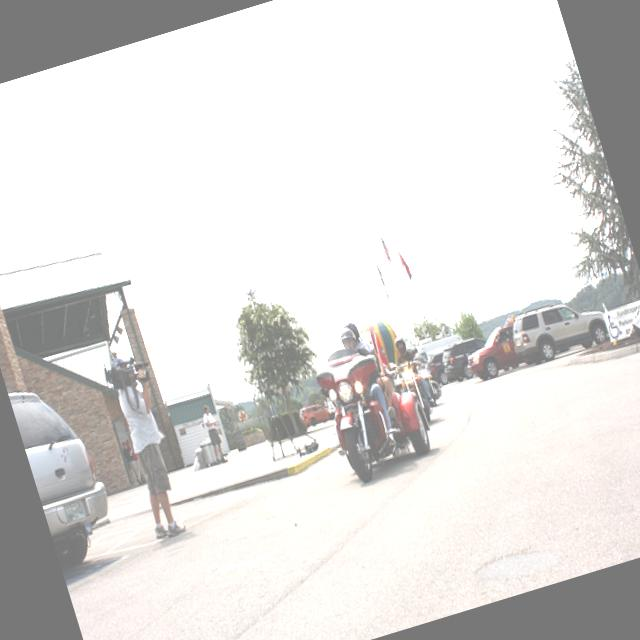Vehicle: (7, 372, 123, 570), (315, 346, 439, 489), (504, 290, 612, 370), (456, 309, 544, 385), (391, 359, 438, 428), (436, 333, 494, 385), (414, 354, 446, 406), (422, 351, 452, 389), (296, 400, 332, 430)
